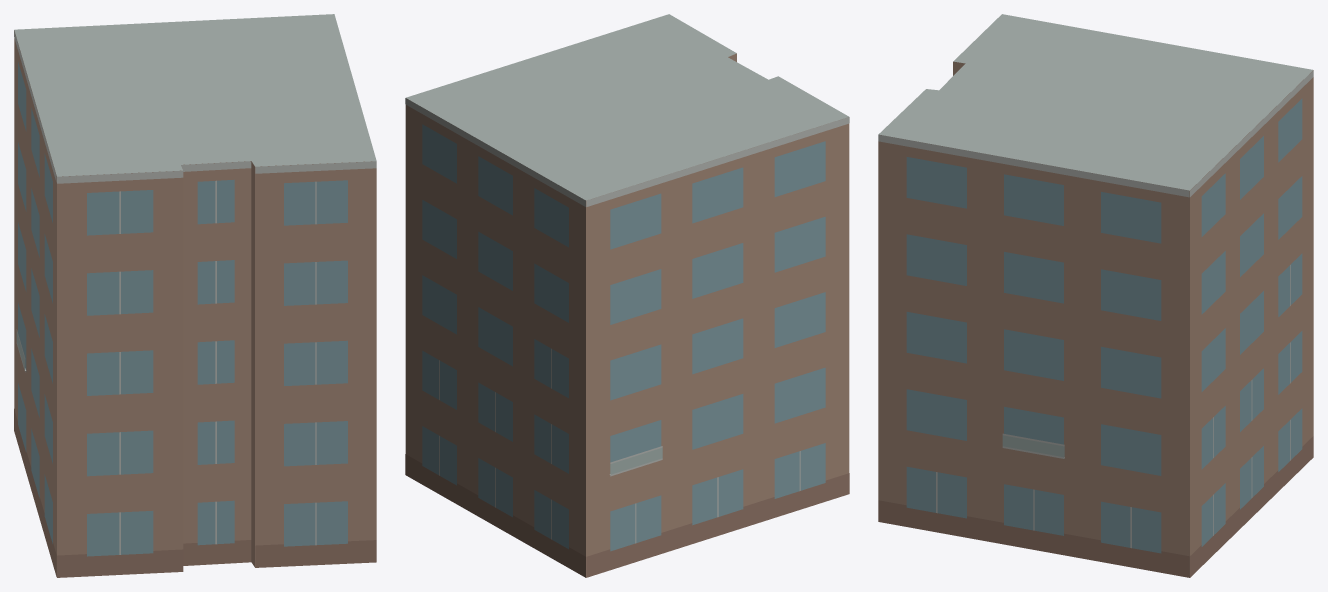
File: survey-upis-33040948.glb
3 views of the same model, side by side, from view 1: azimuth 30°, elevation 25°; view 2: azimuth 150°, elevation 25°; view 3: azimuth 270°, elevation 25° (orthographic). The views are drawn at different scales.
Parts seen in each view (by area): view 1: survey-upis-33040948.tmp; view 2: survey-upis-33040948.tmp; view 3: survey-upis-33040948.tmp.
Part boxes in pixels (box(x1,y1,x2,y2)): survey-upis-33040948.tmp: box(14, 14, 376, 577); survey-upis-33040948.tmp: box(405, 14, 849, 577); survey-upis-33040948.tmp: box(878, 14, 1313, 577).
Bounding box in the file's own units: 13.45 × 13.75 × 14.01.
